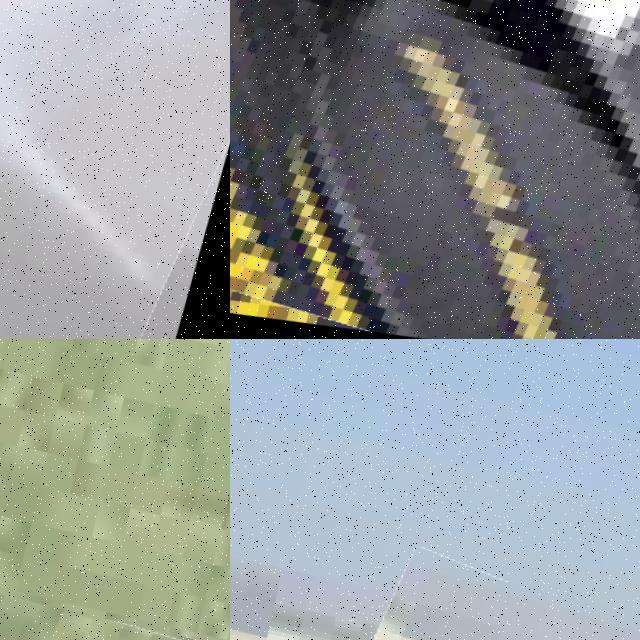0: (312, 552, 640, 640), (0, 518, 230, 640)
drone: (230, 0, 640, 339), (0, 0, 230, 339)
